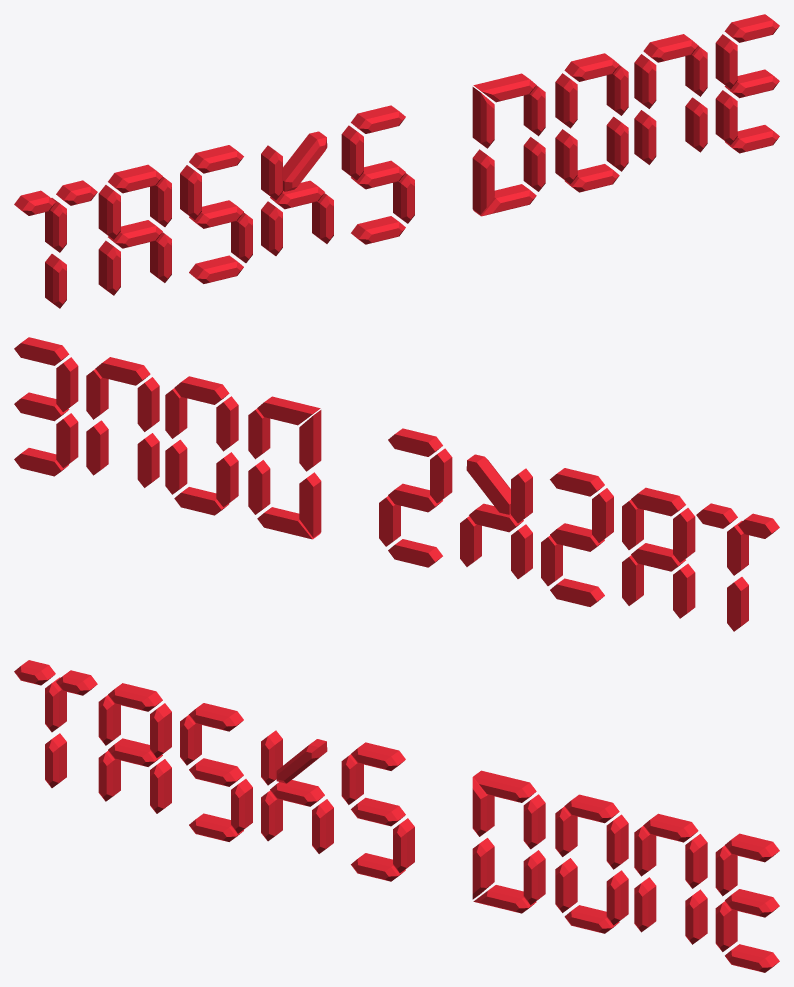
The model's file is TasksDoneLetters.fbx.
3 views of the same model, one above another, from view 1: azimuth 30°, elevation 25°; view 2: azimuth 150°, elevation 25°; view 3: azimuth 330°, elevation 25° (orthographic).
Visible parts, largest first — view 1: Slash Segment.012, Segment.033, Segment.026, Segment.025, Segment.042, Segment.138, Segment.041, Segment.045, Segment.052, Segment.139, Segment.206, Segment.049 (+35 smaller); view 2: Slash Segment.012, Segment.033, Segment.026, Segment.025, Segment.042, Segment.138, Segment.041, Segment.045, Segment.052, Segment.139, Segment.206, Segment.049 (+35 smaller); view 3: Segment.025, Segment.033, Segment.049, Segment.035, Segment.045, Segment.034, Segment.046, Segment.052, Segment.053, Segment.041, Segment.061, Segment.058 (+35 smaller).
Part boxes in pixels (box(x1,y1,x2,y2)): Slash Segment.012: box(283, 131, 327, 191); Segment.033: box(472, 149, 494, 214); Segment.026: box(472, 87, 494, 148); Segment.025: box(473, 73, 536, 102); Segment.042: box(555, 73, 577, 128); Segment.138: box(98, 240, 120, 295); Segment.041: box(555, 129, 577, 184); Segment.045: box(606, 116, 628, 171); Segment.052: box(685, 97, 707, 152); Segment.139: box(98, 185, 120, 239); Segment.206: box(341, 125, 363, 180); Segment.049: box(634, 110, 656, 164); Slash Segment.012: box(466, 454, 510, 514); Segment.033: box(299, 472, 321, 537); Segment.026: box(299, 410, 321, 471); Segment.025: box(257, 396, 320, 425); Segment.042: box(216, 396, 238, 451); Segment.138: box(673, 563, 695, 618); Segment.041: box(216, 452, 238, 507); Segment.045: box(165, 439, 187, 494); Segment.052: box(86, 420, 108, 475); Segment.139: box(673, 508, 695, 562); Segment.206: box(430, 448, 452, 503); Segment.049: box(137, 433, 159, 487); Segment.025: box(473, 770, 536, 802); Segment.033: box(472, 838, 494, 899); Segment.049: box(634, 877, 656, 932); Segment.035: box(523, 794, 545, 849); Segment.045: box(606, 870, 628, 925); Segment.034: box(523, 850, 545, 905); Segment.046: box(606, 814, 628, 869); Segment.052: box(685, 889, 707, 944); Segment.053: box(685, 834, 707, 888); Segment.041: box(555, 858, 577, 912); Segment.061: box(724, 833, 779, 862); Segment.058: box(725, 889, 779, 917).
Bounding box in the file's own units: 1076 × 26.93 × 170.
